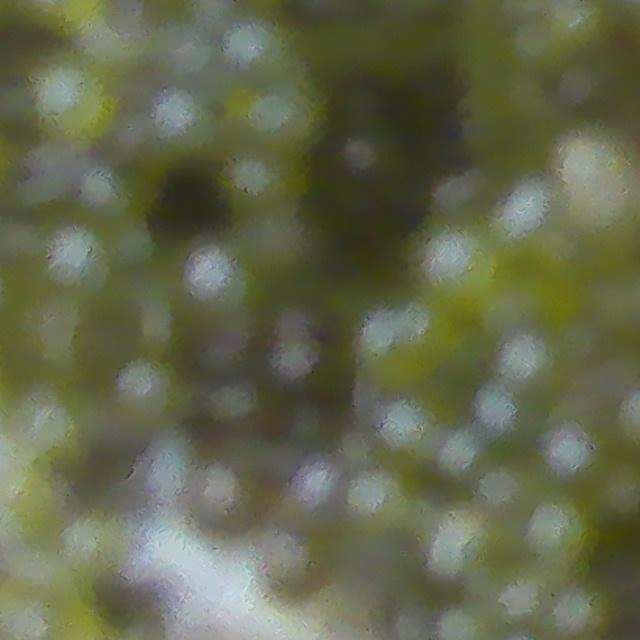SeaGrape: (231, 73, 326, 159), (418, 226, 503, 311), (520, 488, 603, 573), (32, 63, 115, 141), (149, 88, 218, 164), (220, 11, 295, 80), (473, 454, 545, 522), (114, 357, 181, 426), (184, 245, 249, 313), (345, 467, 412, 532), (491, 558, 552, 625), (589, 455, 640, 531), (543, 424, 599, 483), (432, 595, 501, 640)
